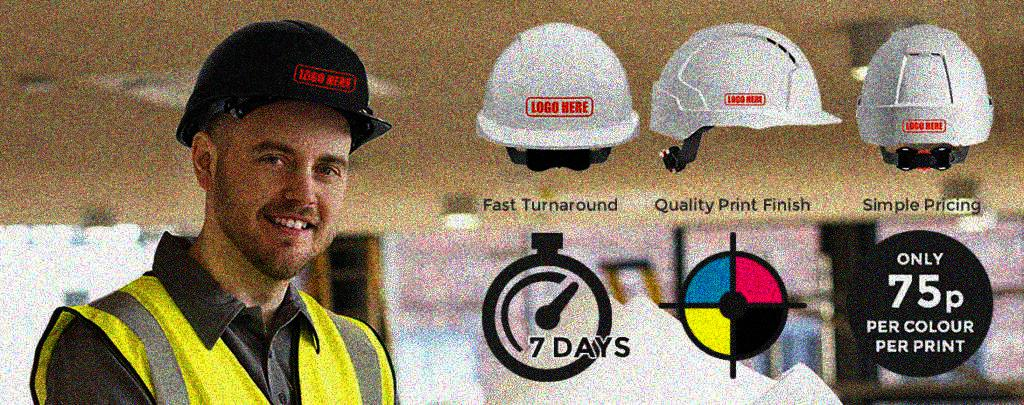helmet: (172, 15, 395, 278)
